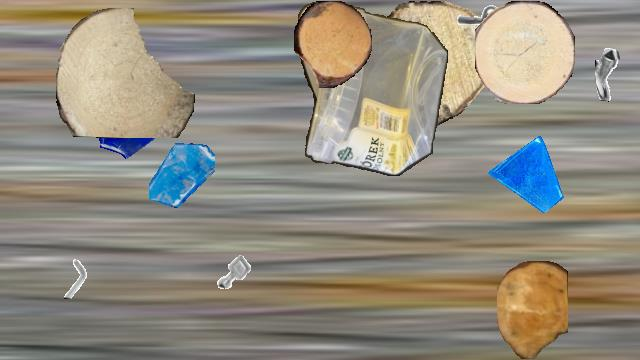glass: (88, 78, 170, 160), (488, 136, 564, 212), (149, 142, 215, 208)
metal: (442, 1, 504, 63), (595, 46, 640, 102), (209, 247, 259, 297), (54, 257, 96, 299)
plastic: (298, 1, 448, 175)
wood: (56, 8, 194, 138), (352, 1, 492, 127), (475, 1, 575, 103), (497, 261, 567, 359), (294, 1, 372, 87)
